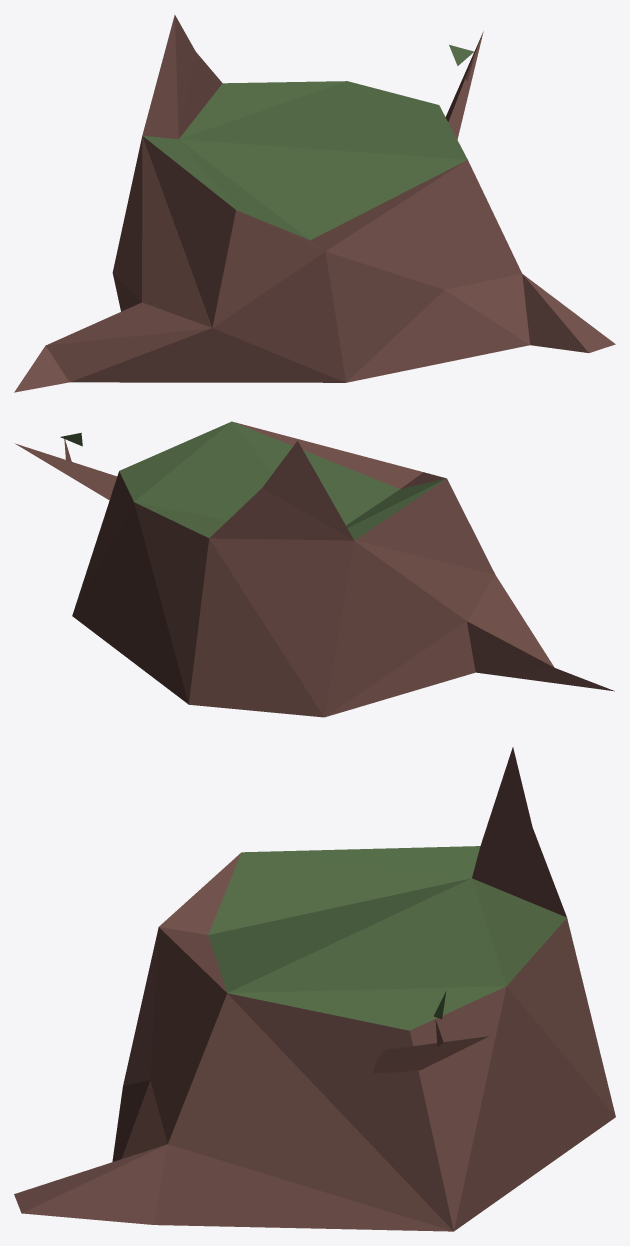
Rendered from TreeStump_Moss.lod2.glb.
3 renders of one model, top to bottom at view 1: azimuth 30°, elevation 25°; view 2: azimuth 150°, elevation 25°; view 3: azimuth 270°, elevation 25°, orthographic. The views are drawn at different scales.
Visible parts, largest first — view 1: TreeStump_Moss; view 2: TreeStump_Moss; view 3: TreeStump_Moss.
Boxes of the visible parts, box(x1,y1,x2,y2) form: TreeStump_Moss: box(14, 14, 615, 392); TreeStump_Moss: box(15, 421, 614, 717); TreeStump_Moss: box(14, 747, 615, 1231).
Size of the model in its own units: 1.33 by 0.612 by 1.01.
